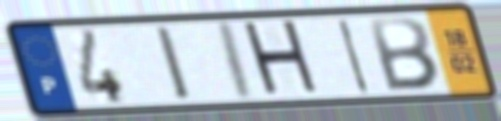4: (77, 27, 127, 106)
B: (365, 15, 443, 93)
H: (238, 17, 325, 101)
I: (216, 18, 259, 104), (151, 24, 196, 104), (335, 16, 373, 96)
